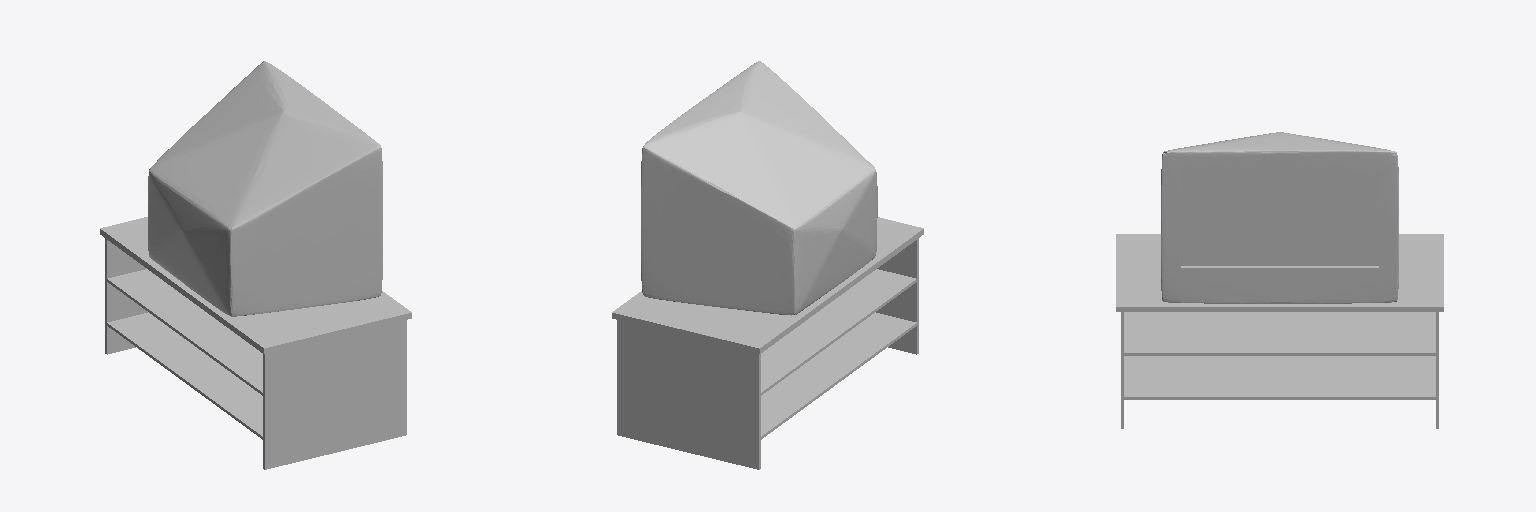
3 views of the same model, side by side, from view 1: azimuth 30°, elevation 25°; view 2: azimuth 150°, elevation 25°; view 3: azimuth 270°, elevation 25° (orthographic).
Visible parts, largest first — view 1: Poignee_47.001; view 2: Poignee_47.001; view 3: Poignee_47.001.
Boxes of the visible parts, box(x1,y1,x2,y2) form: Poignee_47.001: box(100, 61, 411, 469); Poignee_47.001: box(612, 61, 923, 469); Poignee_47.001: box(1116, 132, 1443, 428).
Bounding box in the file's own units: 1.14 × 2.03 × 2.19.